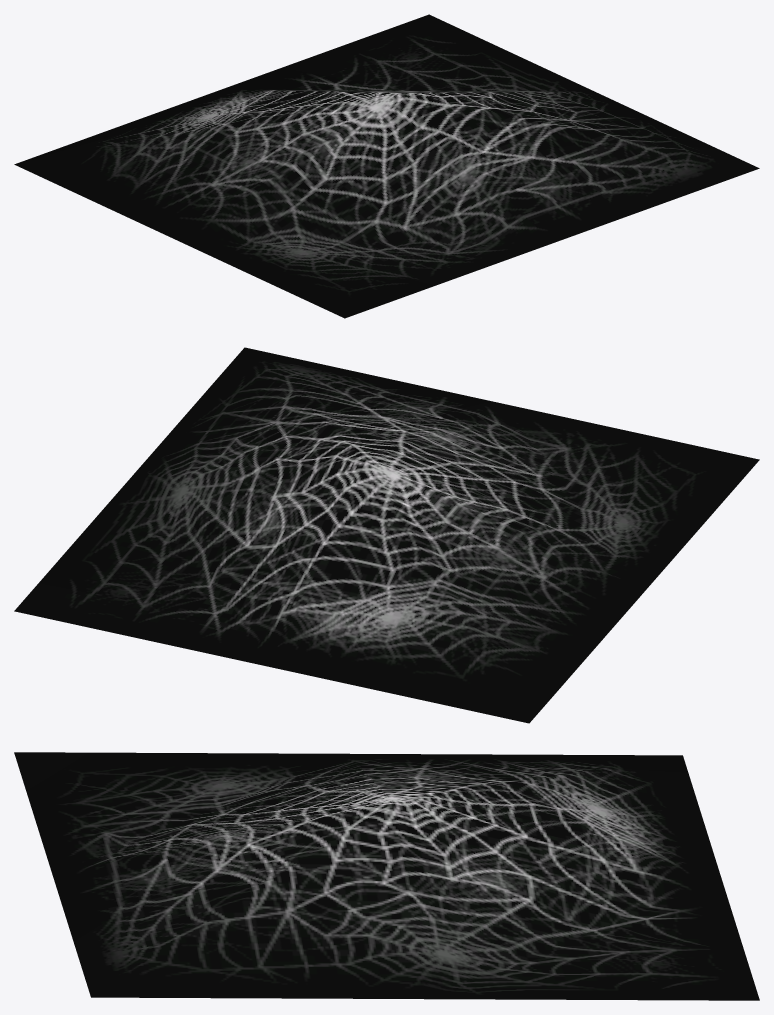
File: MIRKWOOD_PLANE30.fbx
The picture shows the model from 3 angles, top to bottom: view 1: azimuth 30°, elevation 25°; view 2: azimuth 150°, elevation 25°; view 3: azimuth 270°, elevation 25°; orthographic projection. The views are drawn at different scales.
Visible parts, largest first — view 1: MIRKWOOD_PLANE30; view 2: MIRKWOOD_PLANE30; view 3: MIRKWOOD_PLANE30.
Part boxes in pixels (x1,y1,x2,y2): MIRKWOOD_PLANE30: [14, 14, 759, 318]; MIRKWOOD_PLANE30: [14, 347, 759, 723]; MIRKWOOD_PLANE30: [14, 752, 759, 1000].
Size of the model in its own units: 166966 by 29076 by 173939.
Materials: 1 (1 with a texture image).
